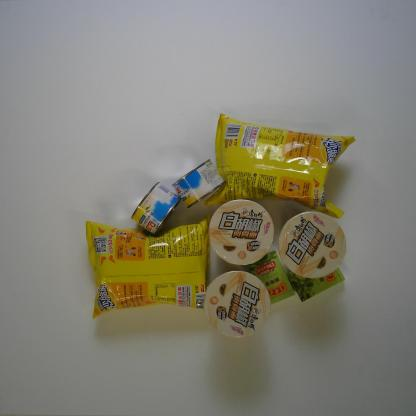Candy: (246, 250, 295, 308), (286, 260, 347, 304)
Canned Food: (130, 180, 182, 237), (171, 157, 225, 210)
Instant Noodles: (276, 209, 349, 280), (203, 270, 273, 342), (208, 197, 276, 268)
Puffed Food: (204, 111, 360, 218), (82, 217, 217, 321)
